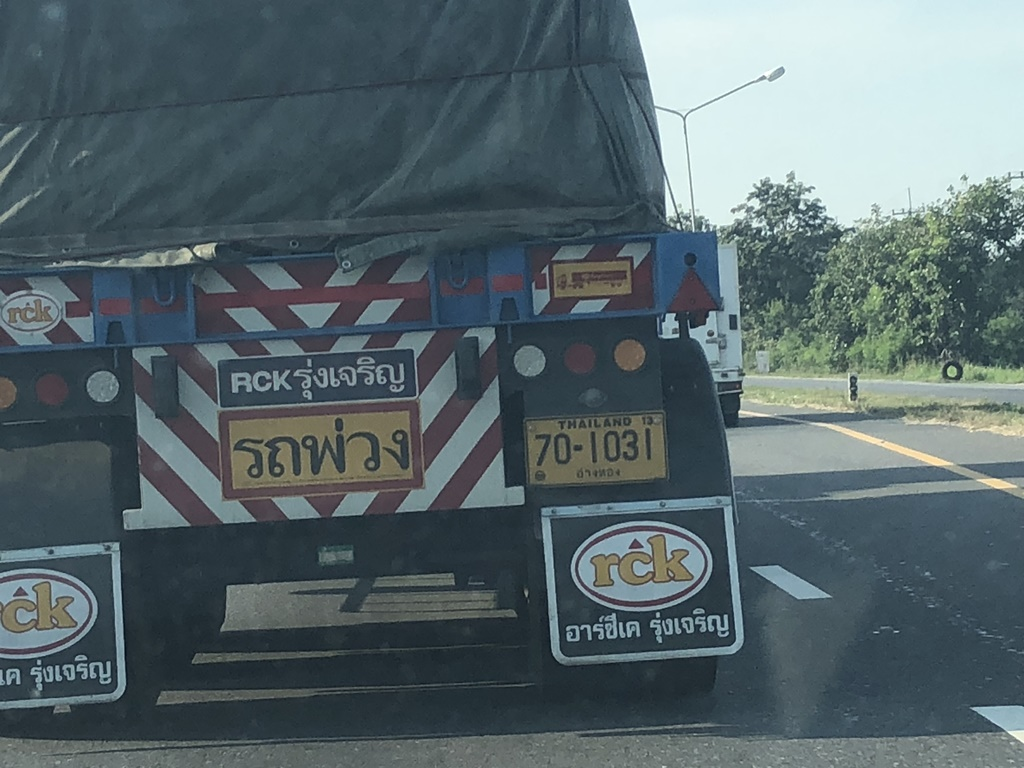zero: (547, 425, 575, 467), (598, 427, 626, 466)
